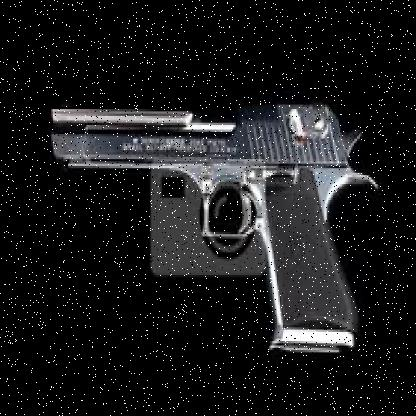pistol: (48, 102, 381, 357)
